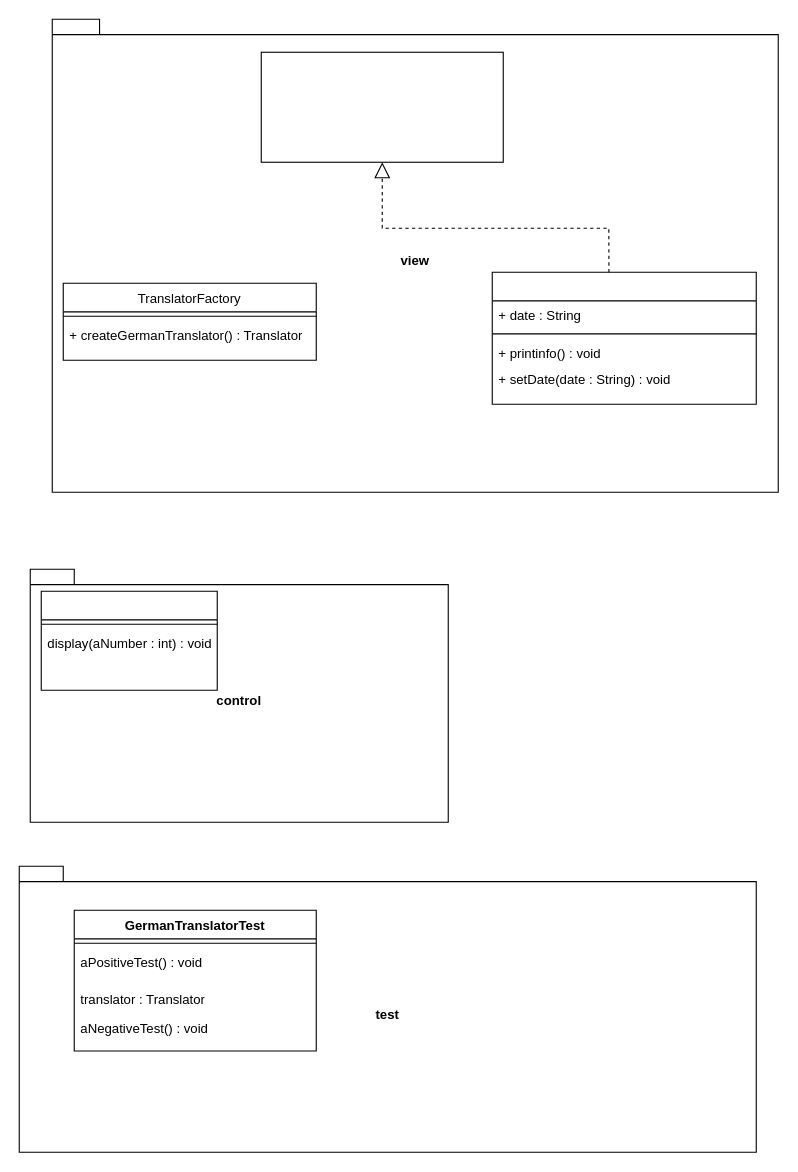
Image size: 798x1172. Some labels were removed from this diagram. Here are the shapes that lost their labels. From the top down, the box of each, then its label:
(260, 51, 503, 162): <<Interface>> Interface version : double + translateNumber(number :int) : String
(491, 271, 756, 404): GermanTranslator
(40, 590, 217, 690): Client
